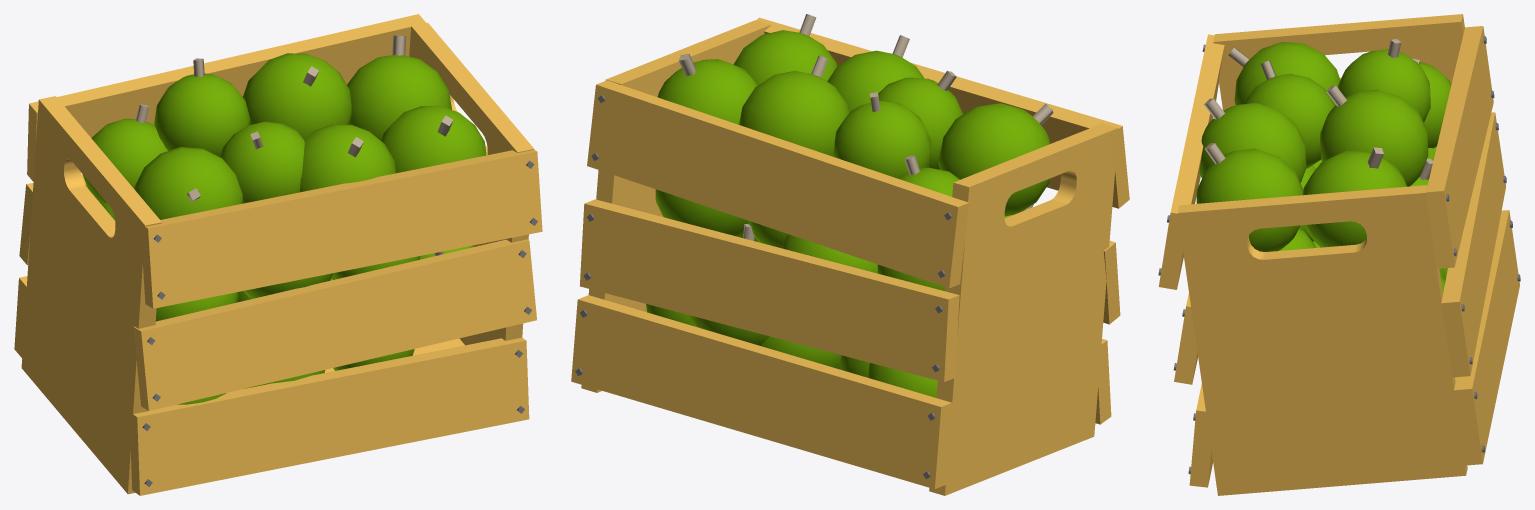
File: crate.glb
The picture shows the model from 3 angles, left to right: view 1: azimuth 30°, elevation 25°; view 2: azimuth 150°, elevation 25°; view 3: azimuth 270°, elevation 25°; orthographic projection. The views are drawn at different scales.
Size of the model in its own units: 1.22 by 1.03 by 0.9804.
